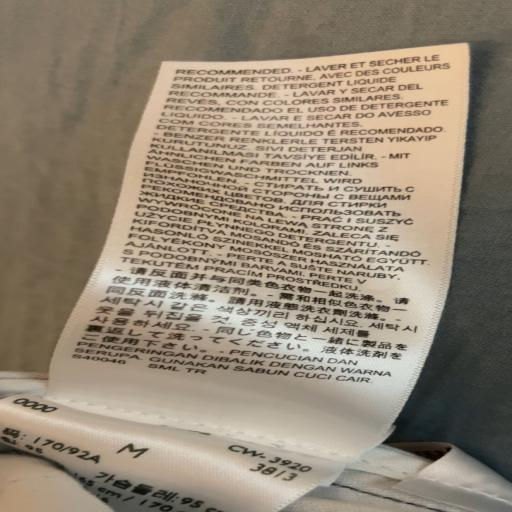paper: (25, 14, 486, 492)
